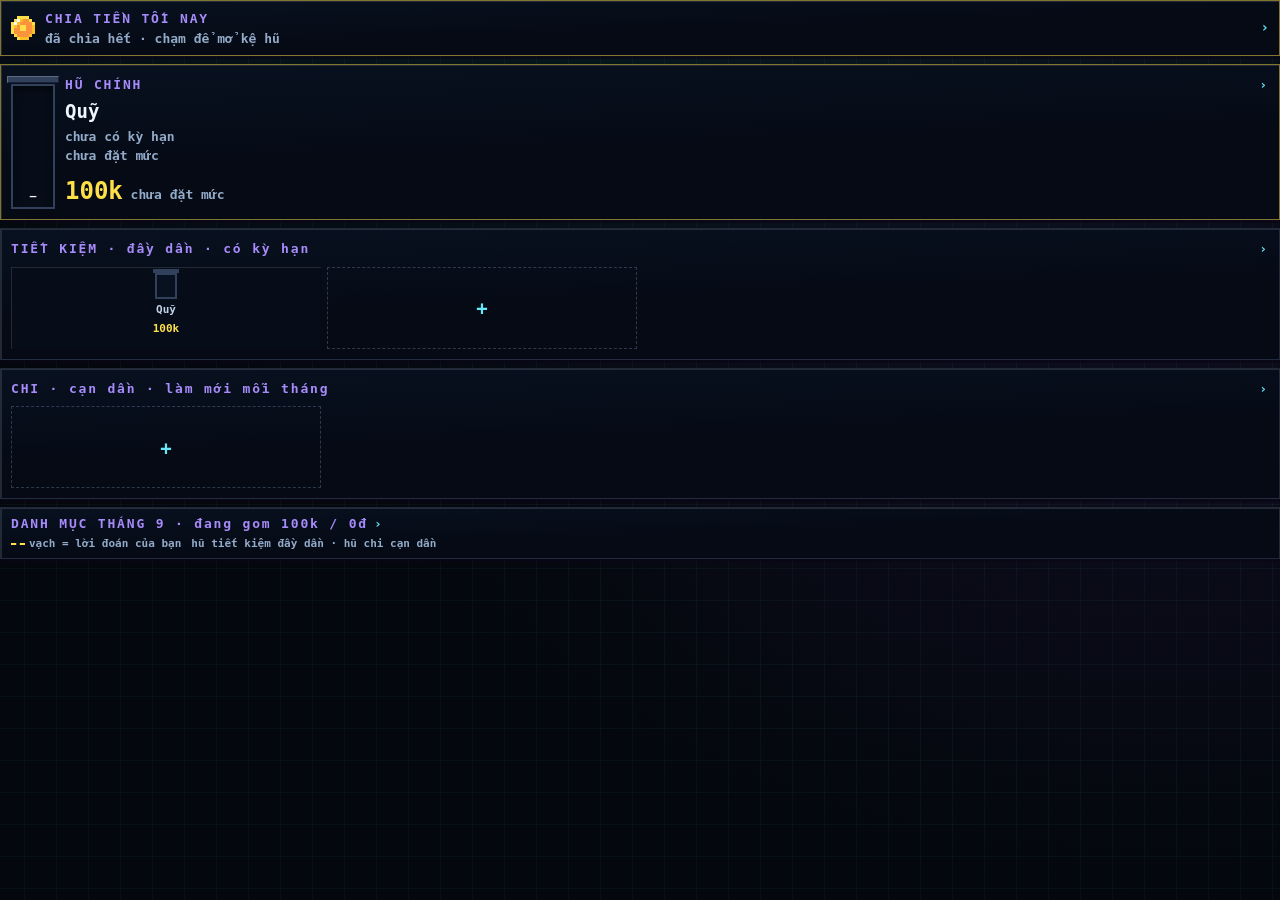
Scenario: §VI — ⭐⭐⭐ Lá vị thế mở ⇒ biểu đồ KẾ HOẠCH · THỰC GÓP, điểm cuối = số "đã góp" trên lá › hũ chưa vào lệnh (không mức/kỳ hạn) ⇒ mở lá không có biểu đồ — không có kế hoạch nào để vẽ
Click the button "HŨ CHÍNH › Quỹ chưa có kỳ hạn chưa đặt mức 100k chưa đặt mức" at (640, 142), box [0,64,1279,220]
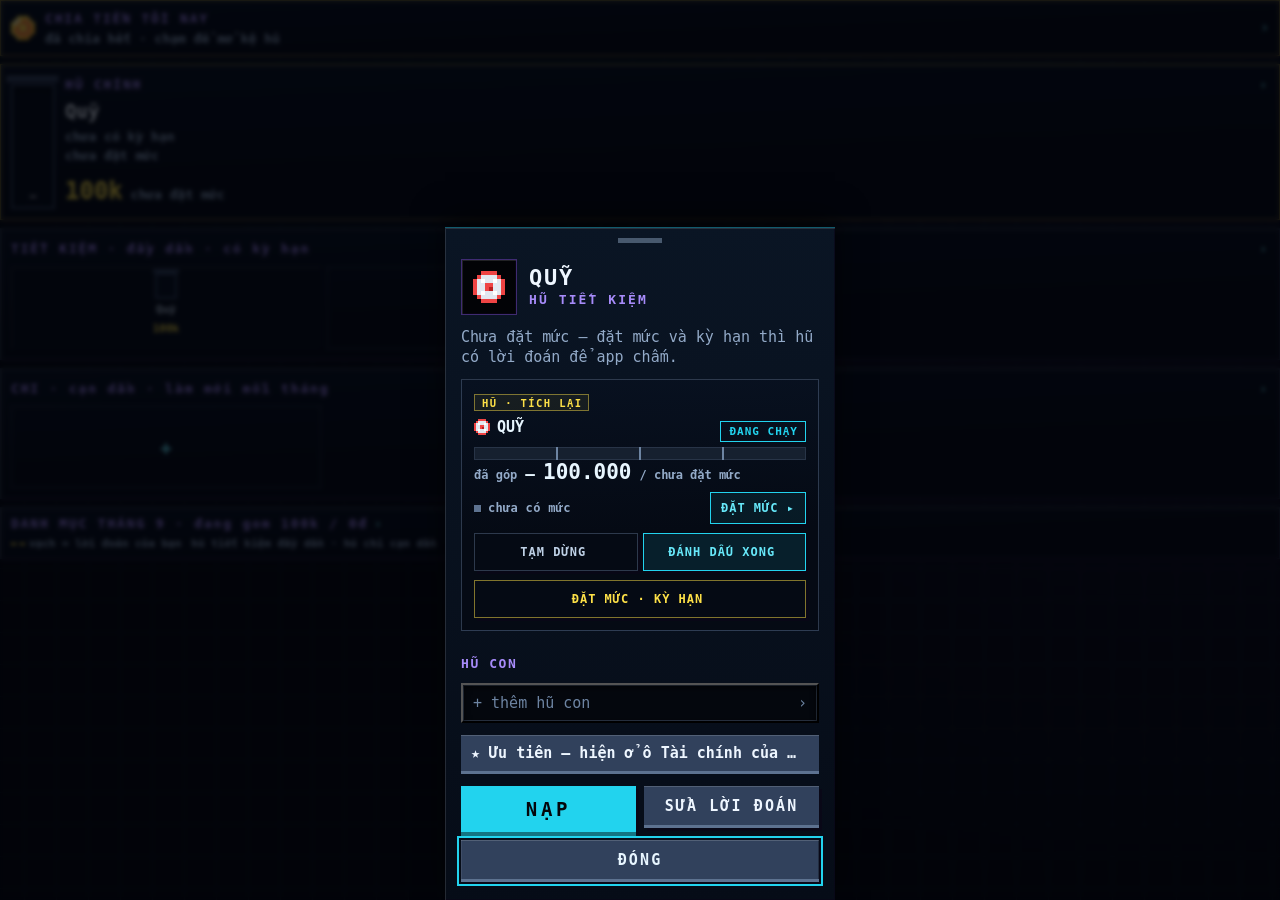
expect the text "QUỸ" is shown: met, box [474,418,524,436]
expect the text "đã góp" is shown: met, box [474,468,517,482]
